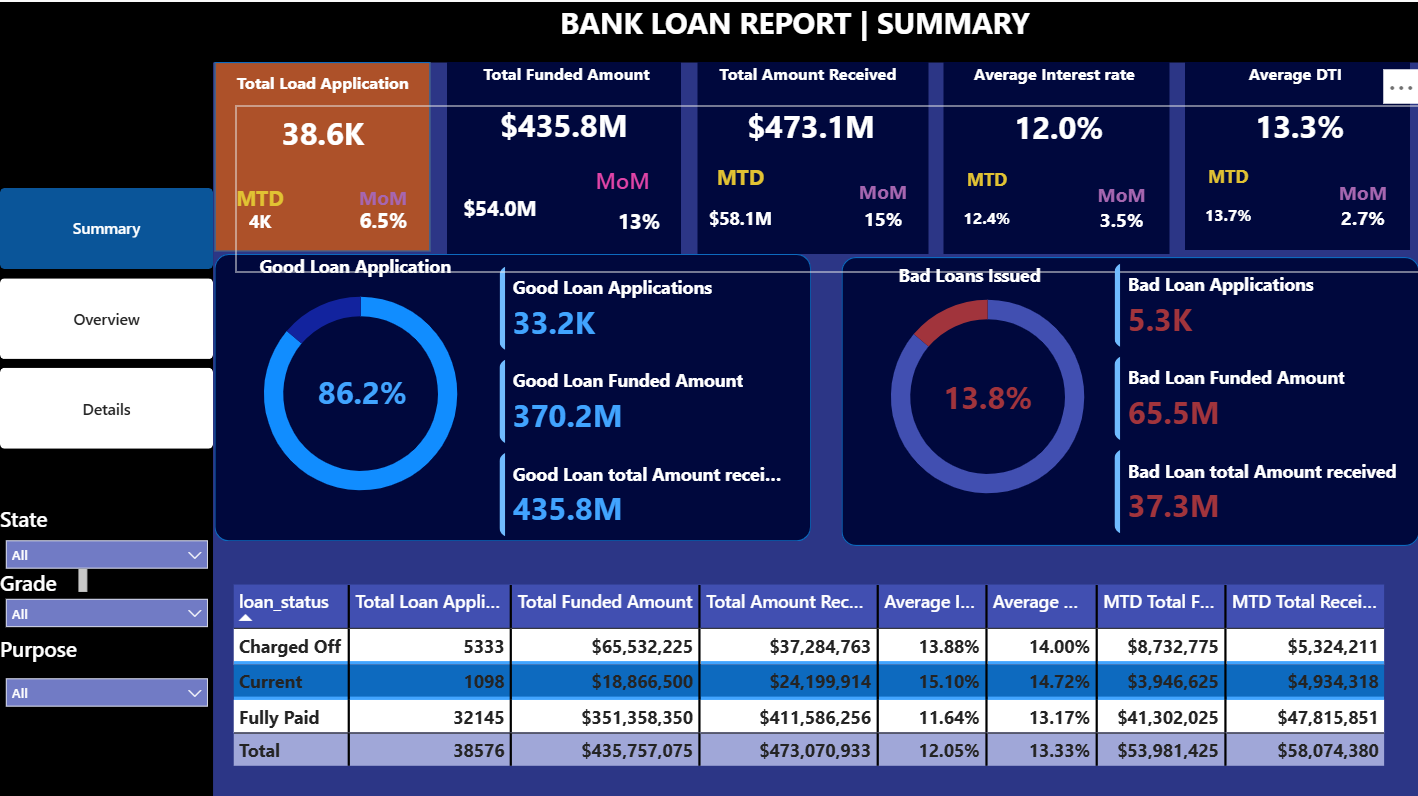

Layout of this report page (visuals, bound fields, positions):
{"tool":"powerbi","page":{"name":"Summary","canvas":[1280,720],"ordinal":0},"visuals":[{"type":"shape","box":[0,0,1279.5,54.5],"z":0},{"type":"shape","box":[0,54.5,192.3,664.7],"z":1000},{"type":"textbox","box":[466.4,0,499.7,54.5],"z":2000},{"type":"shape","box":[193,53.6,194.6,170.9],"z":2000,"group":"g1"},{"type":"group","id":"g1","title":"Group 1","box":[192.7,53.6,195.3,170.9],"z":3000},{"type":"group","id":"g2","title":"Group 2","box":[402.8,54.2,211.5,172.6],"z":4000},{"type":"card","fields":{"Values":["financial_loan (2).Total Funded Amount"]},"box":[403.4,78.6,210.3,67],"z":4000,"group":"g2"},{"type":"card","fields":{"Values":["financial_loan (2).Avearge DTI"]},"box":[1070.3,81.1,201.4,64.7],"z":4000,"group":"g5"},{"type":"card","fields":{"Values":["financial_loan (2).Totak Amount Received"]},"box":[629.8,81.5,201.7,65.6],"z":4000,"group":"g3"},{"type":"card","fields":{"Values":["financial_loan (2).Average Interest Rate"]},"box":[852,81.6,202.4,65.9],"z":4000,"group":"g4"},{"type":"card","fields":{"Values":["financial_loan (2).Total Loan Application"]},"box":[192.7,88.5,195.3,60.6],"z":4000,"group":"g1"},{"type":"textbox","box":[410.7,54.2,199.3,28],"z":5000,"group":"g2"},{"type":"group","id":"g3","title":"Group 2","box":[627.9,54.2,208.2,172.6],"z":5000},{"type":"textbox","box":[627.9,54.2,199.2,28.5],"z":5000,"group":"g3"},{"type":"textbox","box":[850.1,54.2,199.9,28.5],"z":5000,"group":"g4"},{"type":"textbox","box":[1068.4,54.2,198.9,28],"z":5000,"group":"g5"},{"type":"textbox","box":[192.7,61.2,195.3,27.3],"z":5000,"group":"g1"},{"type":"group","id":"g4","title":"Group 2","box":[849.6,54.2,204.8,172.6],"z":6000},{"type":"card","title":"MTD","fields":{"Values":["financial_loan (2).MTD Total Received Amount"]},"box":[629.3,144.5,74.6,78.7],"z":6000,"group":"g3"},{"type":"card","title":"MTD","fields":{"Values":["financial_loan (2).MTD Average DTI"]},"box":[1067.9,146.7,77.8,72.3],"z":6000,"group":"g5"},{"type":"card","title":"MTD","fields":{"Values":["financial_loan (2).MTD Average Insterest rate"]},"box":[849.6,148.4,78.2,73.6],"z":6000,"group":"g4"},{"type":"card","title":"MTD","fields":{"Values":["financial_loan (2).MTD Load Applications"]},"box":[192.7,149.1,81.8,72.7],"z":6000,"group":"g1"},{"type":"card","title":"MTD","fields":{"Values":["financial_loan (2).MTD Total Funded Amount"]},"box":[402.8,149.2,95,77.6],"z":6000,"group":"g2"},{"type":"card","title":"MoM","fields":{"Values":["financial_loan (2).MoM Received Amount"]},"box":[753,144.5,83.1,82.3],"z":7000,"group":"g3"},{"type":"card","title":"MoM","fields":{"Values":["financial_loan (2).MoM Average DTI"]},"box":[1186.4,146.1,82.9,77.6],"z":7000,"group":"g5"},{"type":"card","title":"MoM","fields":{"Values":["financial_loan (2).MoM Total Funded Amount"]},"box":[536.3,147.4,78,75.9],"z":7000,"group":"g2"},{"type":"card","title":"MoM","fields":{"Values":["financial_loan (2).MoM Interest Rate"]},"box":[968.7,147.8,83.3,79],"z":7000,"group":"g4"},{"type":"card","title":"MoM","fields":{"Values":["financial_loan (2).MoM Load Applications"]},"box":[300.2,149.1,87.8,72.7],"z":7000,"group":"g1"},{"type":"shape","box":[193.8,227.1,537.5,258.9],"z":7000},{"type":"donutChart","fields":{"Category":["financial_loan (2).Good Loan vs Bad loan"],"Y":["financial_loan (2).Total Loan Application"]},"box":[199.9,224.1,249.8,258.9],"z":8000},{"type":"group","id":"g5","title":"Group 2","box":[1067.9,54.2,203.1,169.2],"z":9000},{"type":"shape","box":[758.6,230.2,520.9,260.4],"z":10000},{"type":"card","fields":{"Values":["financial_loan (2).Good Loan %"]},"box":[225.6,321,201.4,66.6],"z":11000},{"type":"textbox","box":[233.2,227.1,216.5,27.3],"z":12000},{"type":"cardVisual","fields":{"Data":["financial_loan (2).Good Loan Applications1","financial_loan (2).Good Loan Funded Amount","financial_loan (2).Good Loan total Amount received"]},"box":[449.7,237.7,268,245.3],"z":13000},{"type":"donutChart","fields":{"Category":["financial_loan (2).Good Loan vs Bad loan"],"Y":["financial_loan (2).Total Loan Application"]},"box":[764.7,227.1,249.8,258.9],"z":14000},{"type":"card","fields":{"Values":["financial_loan (2).Bad %"]},"box":[788.9,324,201.4,66.6],"z":15000},{"type":"textbox","box":[212,93,1068,150],"z":16000},{"type":"cardVisual","fields":{"Data":["financial_loan (2).Good Loan Applications","financial_loan (2).Bad Loan Funded Amount","financial_loan (2).Bad Loan total Amount received"]},"box":[1003.9,234.7,268,245.3],"z":17000},{"type":"textbox","box":[810.1,234.7,156,30.3],"z":18000},{"type":"tableEx","fields":{"Values":["financial_loan (2).loan_status","financial_loan (2).Total Loan Application","financial_loan (2).Total Funded Amount","financial_loan (2).Total Amount Received","financial_loan (2).Average Interest Rate","financial_loan (2).Average DTI","financial_loan (2).MTD Total Funded Amount","financial_loan (2).MTD Total Received Amount"]},"box":[193.8,510.3,1085.7,209],"z":19000},{"type":"slicer","fields":{"Values":["financial_loan (2).address_state"]},"box":[0,480,192.3,53],"z":20000},{"type":"textbox","box":[0,452.7,60.6,27.3],"z":21000},{"type":"textbox","box":[0,510.3,78.7,22.7],"z":22000},{"type":"slicer","fields":{"Values":["financial_loan (2).grade"]},"box":[0,533,192.3,37.9],"z":23000},{"type":"textbox","box":[0,570.9,180.2,33.3],"z":24000},{"type":"slicer","fields":{"Values":["financial_loan (2).purpose"]},"box":[0,604.2,192.3,43.9],"z":25000},{"type":"pageNavigator","box":[0,168.1,192.3,236.2],"z":26000}]}

Visuals, with their boxes in screenshot pixels (x1, y1, x2, y2), scaled from the page's 1280x720 canvas onto the 1418x796 screenshot:
shape: [left=0, top=0, right=1417, bottom=60]
shape: [left=0, top=60, right=213, bottom=795]
textbox: [left=517, top=0, right=1070, bottom=60]
shape: [left=214, top=59, right=429, bottom=248]
"Group 1" group: [left=213, top=59, right=430, bottom=248]
"Group 2" group: [left=446, top=60, right=681, bottom=251]
card - financial_loan (2).Total Funded Amount: [left=447, top=87, right=680, bottom=161]
card - financial_loan (2).Avearge DTI: [left=1186, top=90, right=1409, bottom=161]
card - financial_loan (2).Totak Amount Received: [left=698, top=90, right=921, bottom=163]
card - financial_loan (2).Average Interest Rate: [left=944, top=90, right=1168, bottom=163]
card - financial_loan (2).Total Loan Application: [left=213, top=98, right=430, bottom=165]
textbox: [left=455, top=60, right=676, bottom=91]
"Group 2" group: [left=696, top=60, right=926, bottom=251]
textbox: [left=696, top=60, right=916, bottom=91]
textbox: [left=942, top=60, right=1163, bottom=91]
textbox: [left=1184, top=60, right=1404, bottom=91]
textbox: [left=213, top=68, right=430, bottom=98]
"Group 2" group: [left=941, top=60, right=1168, bottom=251]
"MTD" card: [left=697, top=160, right=780, bottom=247]
"MTD" card: [left=1183, top=162, right=1269, bottom=242]
"MTD" card: [left=941, top=164, right=1028, bottom=245]
"MTD" card: [left=213, top=165, right=304, bottom=245]
"MTD" card: [left=446, top=165, right=551, bottom=251]
"MoM" card: [left=834, top=160, right=926, bottom=251]
"MoM" card: [left=1314, top=162, right=1406, bottom=247]
"MoM" card: [left=594, top=163, right=681, bottom=247]
"MoM" card: [left=1073, top=163, right=1165, bottom=251]
"MoM" card: [left=333, top=165, right=430, bottom=245]
shape: [left=215, top=251, right=810, bottom=537]
donutChart - financial_loan (2).Good Loan vs Bad loan x financial_loan (2).Total Loan Application: [left=221, top=248, right=498, bottom=534]
"Group 2" group: [left=1183, top=60, right=1408, bottom=247]
shape: [left=840, top=254, right=1417, bottom=542]
card - financial_loan (2).Good Loan %: [left=250, top=355, right=473, bottom=429]
textbox: [left=258, top=251, right=498, bottom=281]
cardVisual - financial_loan (2).Good Loan Applications1 x financial_loan (2).Good Loan Funded Amount: [left=498, top=263, right=795, bottom=534]
donutChart - financial_loan (2).Good Loan vs Bad loan x financial_loan (2).Total Loan Application: [left=847, top=251, right=1124, bottom=537]
card - financial_loan (2).Bad %: [left=874, top=358, right=1097, bottom=432]
textbox: [left=235, top=103, right=1417, bottom=269]
cardVisual - financial_loan (2).Good Loan Applications x financial_loan (2).Bad Loan Funded Amount: [left=1112, top=259, right=1409, bottom=531]
textbox: [left=897, top=259, right=1070, bottom=293]
tableEx - financial_loan (2).loan_status x financial_loan (2).Total Loan Application: [left=215, top=564, right=1417, bottom=795]
slicer - financial_loan (2).address_state: [left=0, top=531, right=213, bottom=589]
textbox: [left=0, top=500, right=67, bottom=531]
textbox: [left=0, top=564, right=87, bottom=589]
slicer - financial_loan (2).grade: [left=0, top=589, right=213, bottom=631]
textbox: [left=0, top=631, right=200, bottom=668]
slicer - financial_loan (2).purpose: [left=0, top=668, right=213, bottom=717]
pageNavigator: [left=0, top=186, right=213, bottom=447]
